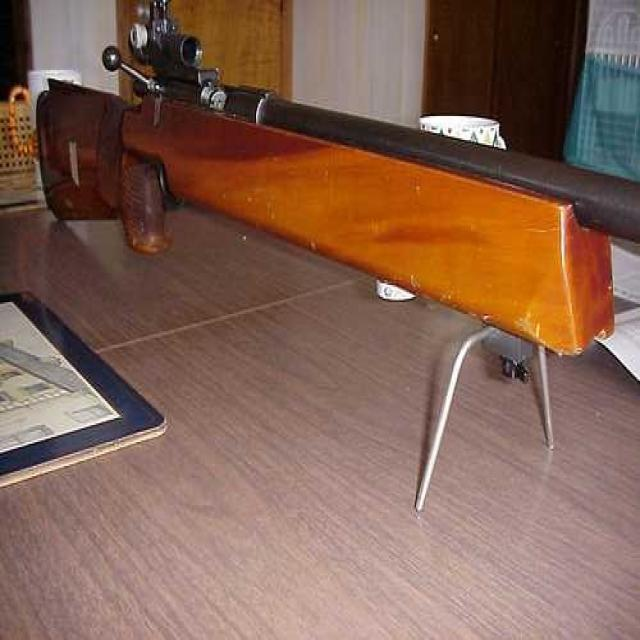heavyweapon: (20, 3, 640, 436)
